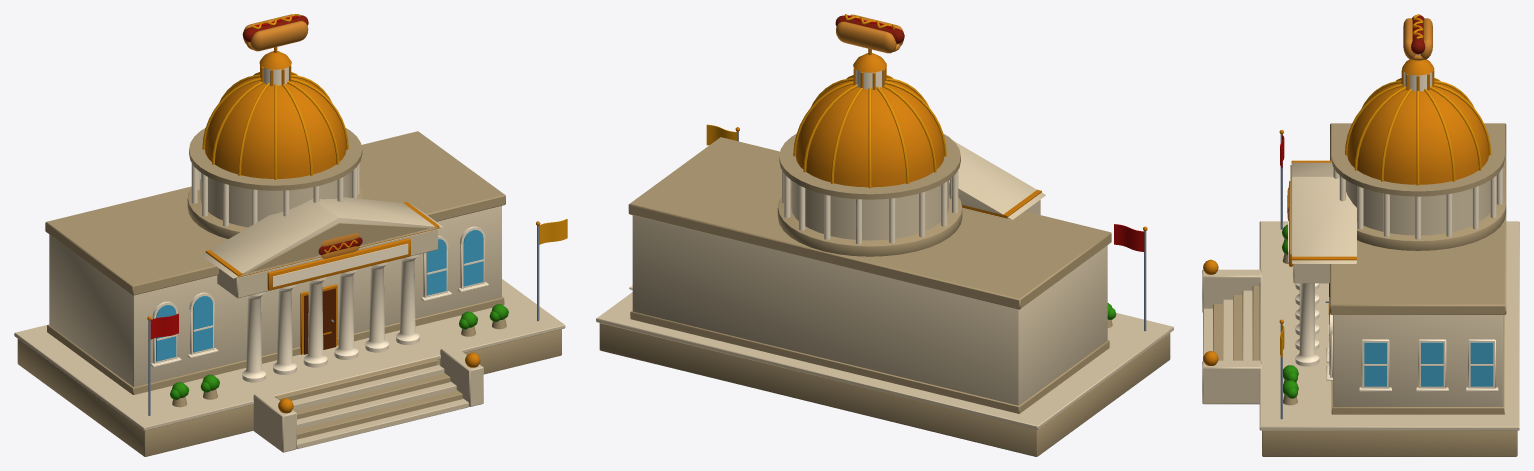
Rendered from RepublicCapitol.fbx.
3 renders of one model, left to right at view 1: azimuth 30°, elevation 25°; view 2: azimuth 150°, elevation 25°; view 3: azimuth 270°, elevation 25°, orthographic. The views are drawn at different scales.
Parts seen in each view (by area): view 1: RepublicCapitol; view 2: RepublicCapitol; view 3: RepublicCapitol.
Boxes of the visible parts, x1,y1,x2,y2 form: RepublicCapitol: [14, 14, 567, 456]; RepublicCapitol: [596, 14, 1173, 456]; RepublicCapitol: [1202, 14, 1519, 456].
Bounding box in the file's own units: 35.35 × 25.64 × 22.35.
